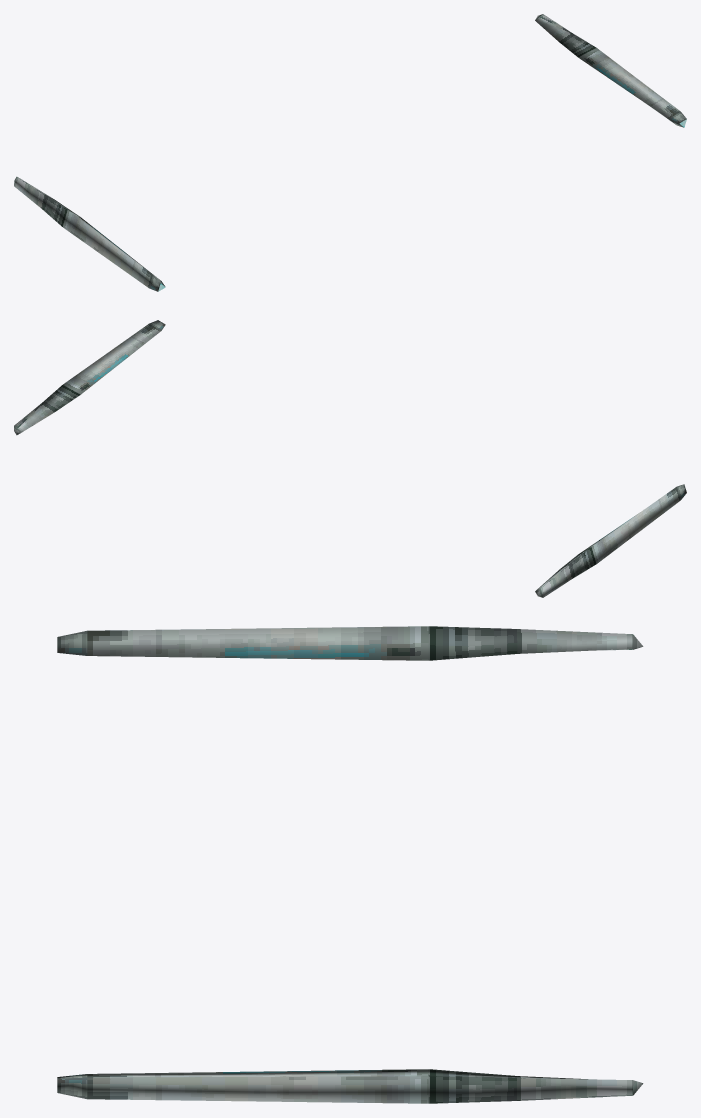
The model's file is xwing_weapon1_neg_s02_l3.fbx.
3 views of the same model, one above another, from view 1: azimuth 30°, elevation 25°; view 2: azimuth 150°, elevation 25°; view 3: azimuth 270°, elevation 25° (orthographic). The views are drawn at different scales.
Parts seen in each view (by area): view 1: mesh_node; view 2: mesh_node; view 3: mesh_node.
Boxes of the visible parts, box(x1,y1,x2,y2) form: mesh_node: box(14, 14, 686, 291); mesh_node: box(14, 320, 686, 597); mesh_node: box(57, 626, 643, 1103).
Size of the model in its own units: 13.63 by 1.2 by 6.48.
1 material, 1 textured.
